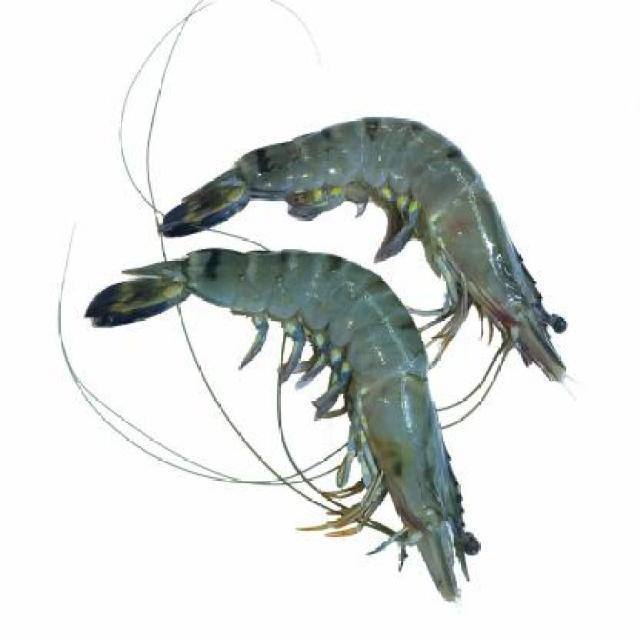shrimp: (79, 237, 490, 607), (155, 107, 586, 396)
